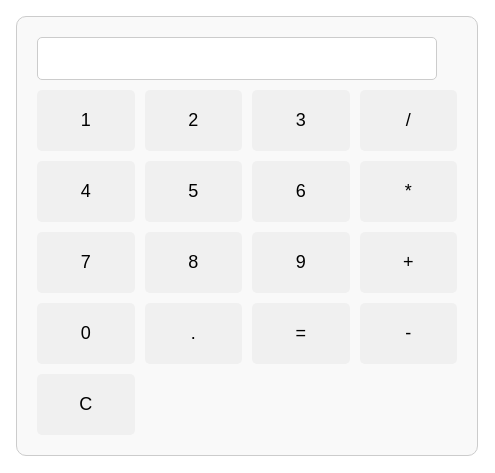
Test: Calculadora › deve realizar operações de soma corretamente
The image size is (495, 473).
Click the button "1".
click(86, 120)  # box [37,90,134,151]
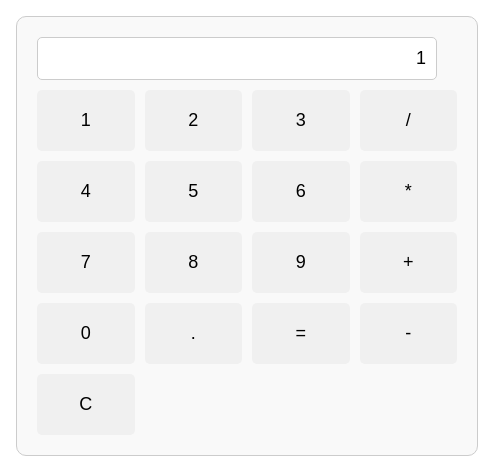
Click the button "+".
click(408, 262)  # box [360,232,457,293]
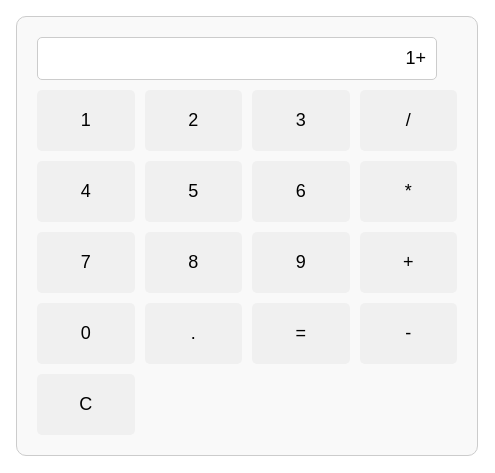
Click the button "2".
click(193, 120)  # box [144,90,242,151]
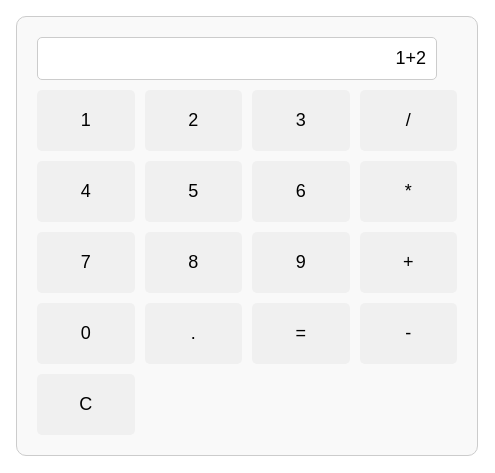
Click the button "=".
click(301, 334)  # box [252,303,350,364]
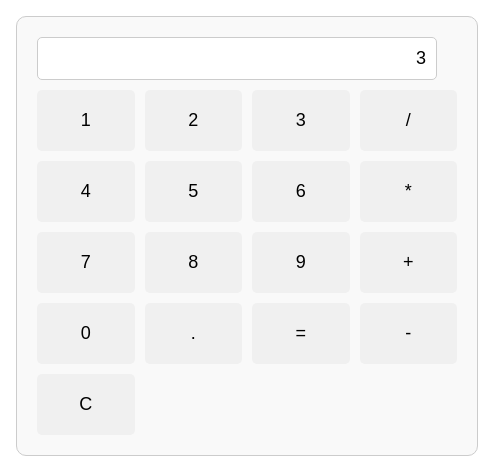
expect the field holds "3": met, box [37,37,437,80]
